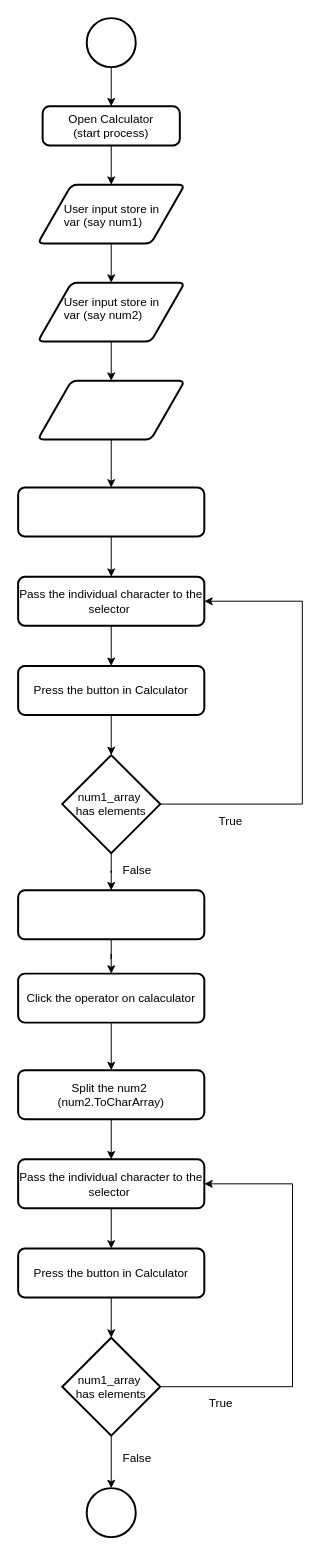
The diagram is 327 pixels wide and 1554 high, and some of its shapes have lost their labels. Each missing label, with the centre of its shape:
"End" goes at point 110,1512.
"Split the num1 (num1.ToCharArray)" goes at point 111,511.
"Start" goes at point 110,42.
"Use Switch Activity to choose the operator" goes at point 111,914.
"User input store in var (say operator)" goes at point 110,409.
